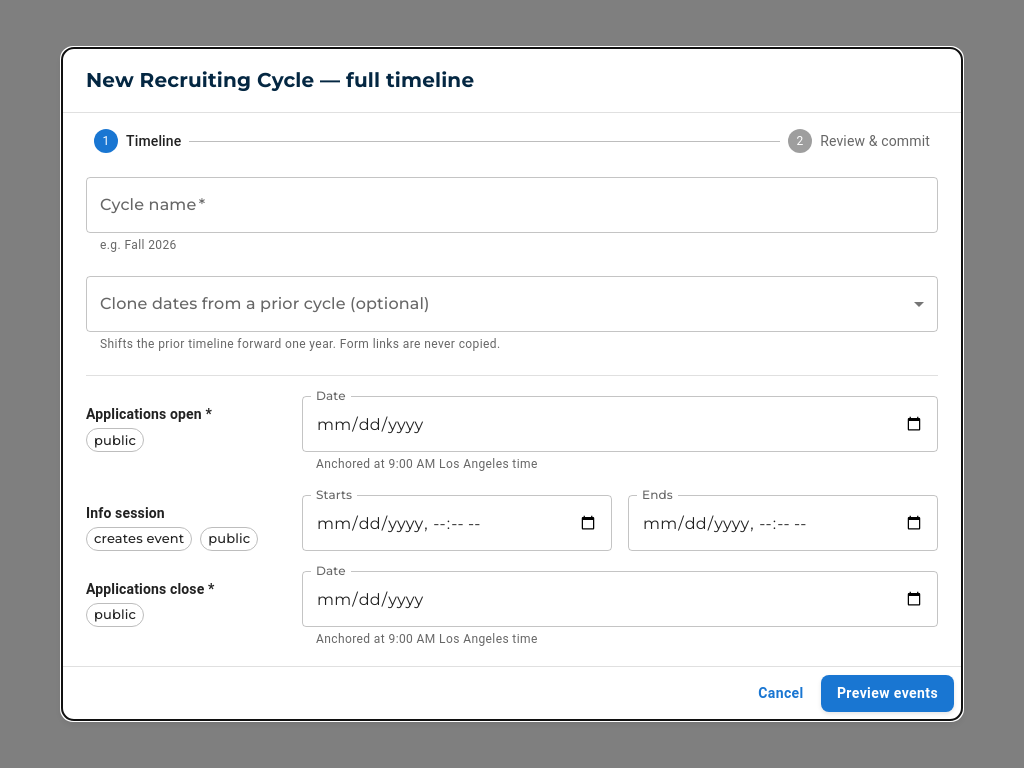
Test: CycleTimelineBootstrapDialog › seeds cloned windows with their time of day and milestones with a date
Check: the date field named "Applications open date" is shown, box x1=302 y1=396 x2=938 y2=452
What coordinates should you click on to do the following:
click the dropdown named "Clone dates from a prior cycle"
I would click on:
 (512, 304)
Its box is x1=86 y1=276 x2=938 y2=332.
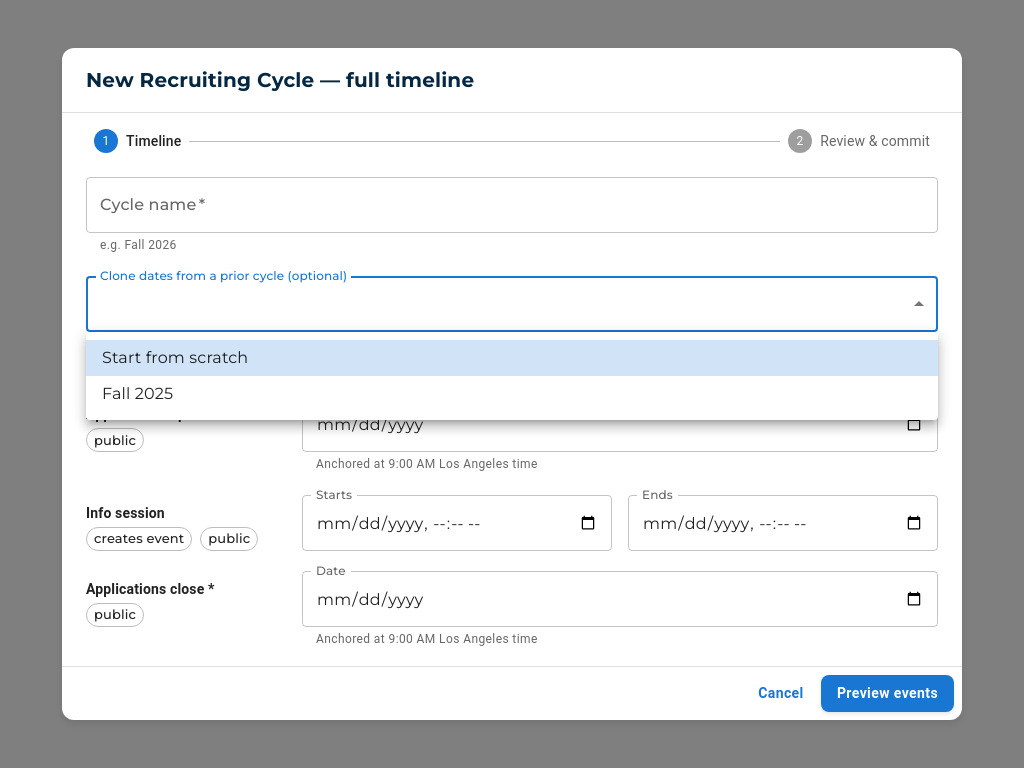
What coordinates should you click on to do the following:
click the option "Fall 2025"
I would click on:
 (138, 394)
Its box is x1=102 y1=384 x2=173 y2=403.
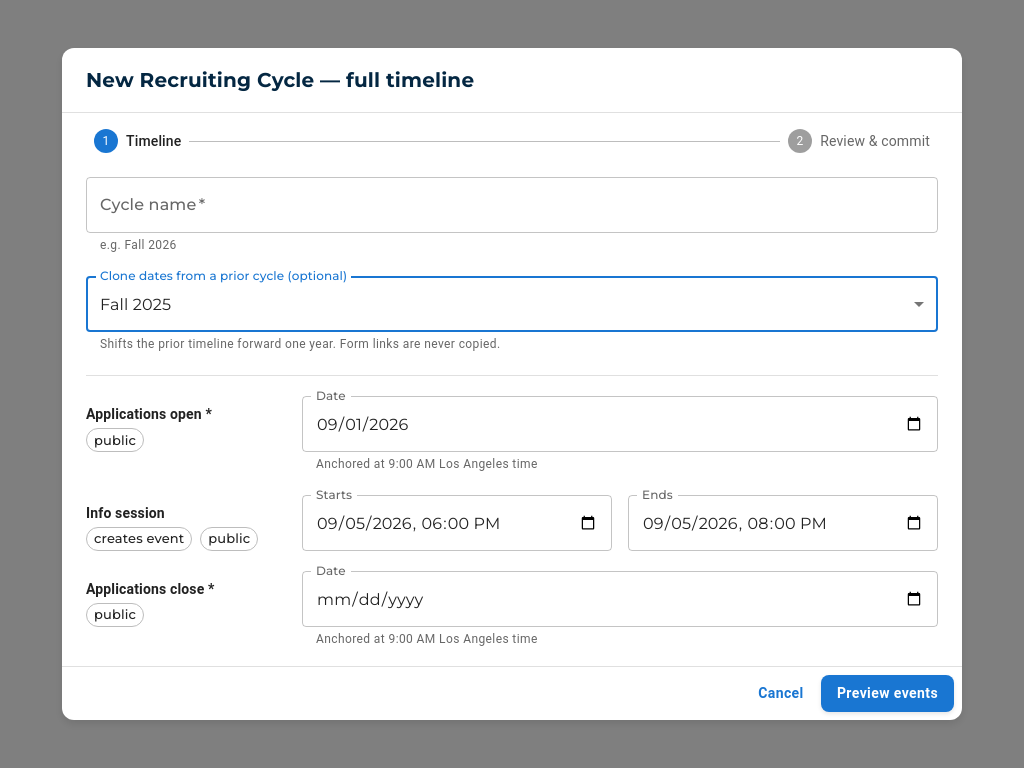
Check: the date field named "Applications open date" holds "2026-09-01", box x1=302 y1=396 x2=938 y2=452
Check: the field named "Info session start" holds "2026-09-05T18:00", box x1=302 y1=495 x2=612 y2=551
Check: the field named "Info session end" holds "2026-09-05T20:00", box x1=628 y1=495 x2=938 y2=551
